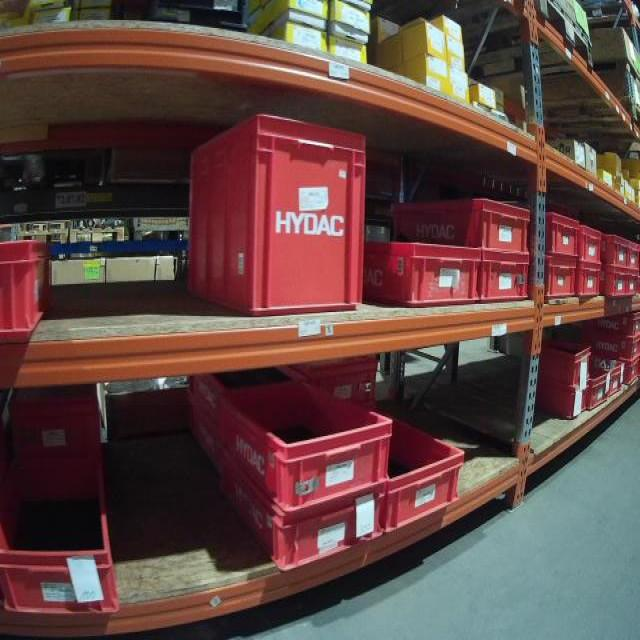small_load_carrier: (174, 105, 370, 315), (2, 460, 130, 621), (220, 393, 400, 499), (218, 482, 389, 577), (378, 403, 474, 545), (367, 238, 484, 310), (391, 198, 535, 256), (284, 355, 381, 433), (10, 381, 103, 454), (2, 238, 57, 347), (534, 339, 592, 391), (477, 255, 535, 296), (535, 207, 578, 258), (536, 382, 586, 416), (543, 258, 579, 300), (594, 356, 626, 397), (585, 335, 638, 357), (581, 316, 639, 335), (585, 367, 610, 409), (600, 269, 630, 302), (575, 266, 603, 301), (581, 225, 603, 266), (604, 234, 629, 268), (624, 359, 639, 386), (629, 243, 639, 272), (628, 273, 639, 298)
